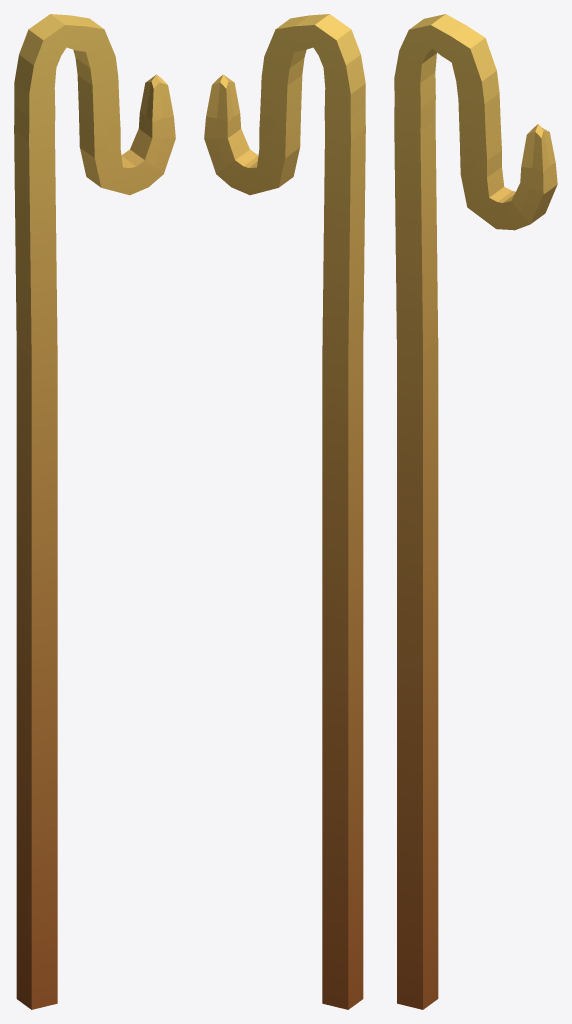
Rendered from Hook Point 1.glb.
3 views of the same model, side by side, from view 1: azimuth 30°, elevation 25°; view 2: azimuth 150°, elevation 25°; view 3: azimuth 330°, elevation 25° (orthographic).
Visible parts, largest first — view 1: Plane.001; view 2: Plane.001; view 3: Plane.001.
Part boxes in pixels (bbox=[...]): Plane.001: bbox=[14, 14, 175, 1009]; Plane.001: bbox=[204, 14, 365, 1009]; Plane.001: bbox=[394, 14, 557, 1009].
Size of the model in its own units: 2.84 by 18.01 by 0.5.
Materials: 1 (1 with a texture image).
